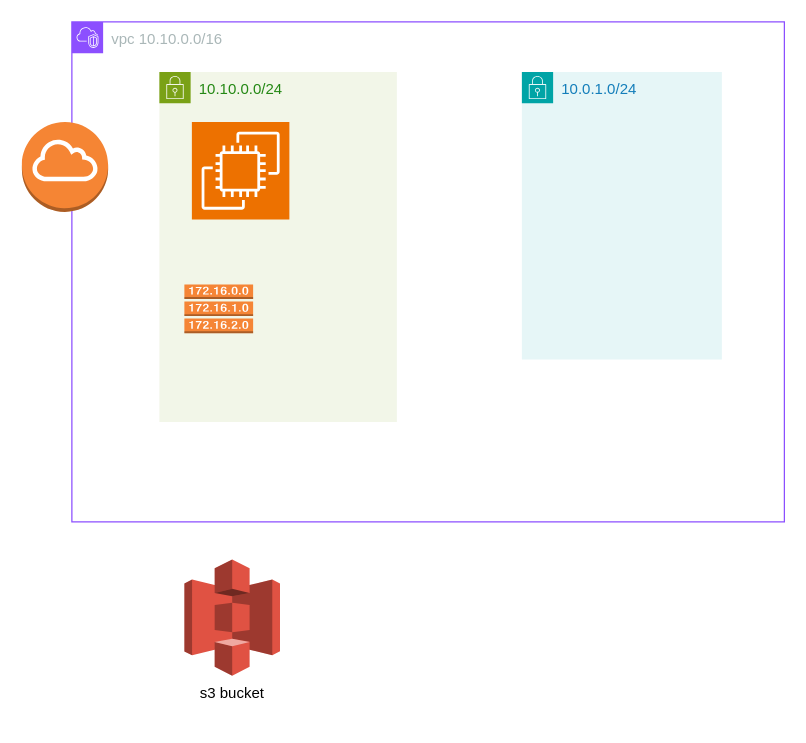
This 806x743 diagram has some shape labels left out. Here are the shapes that lost their labels. From the top down, the centre of each, then its label:
At pixel 240 170: "public instance".
At pixel 218 308: "Public CustomRootTable".
